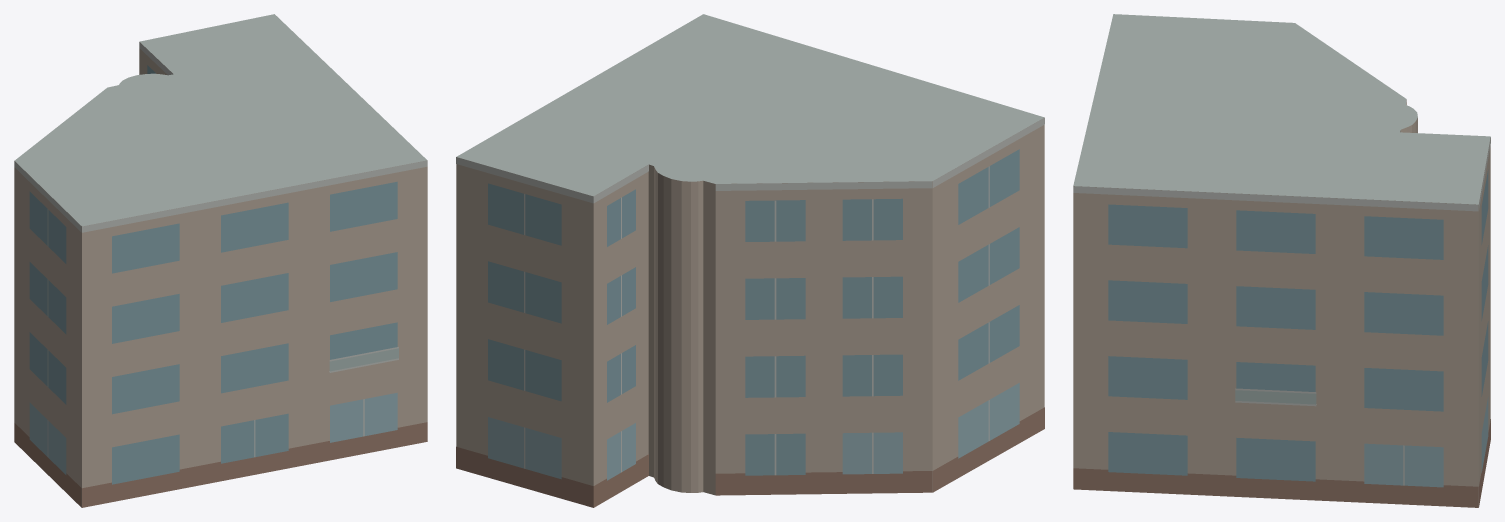
The model's file is survey-upis-32512162.glb.
The picture shows the model from 3 angles, left to right: view 1: azimuth 30°, elevation 25°; view 2: azimuth 150°, elevation 25°; view 3: azimuth 270°, elevation 25°; orthographic projection. The views are drawn at different scales.
Visible parts, largest first — view 1: survey-upis-32512162.tmp; view 2: survey-upis-32512162.tmp; view 3: survey-upis-32512162.tmp.
Boxes of the visible parts, x1,y1,x2,y2 form: survey-upis-32512162.tmp: [14, 14, 427, 507]; survey-upis-32512162.tmp: [456, 14, 1044, 507]; survey-upis-32512162.tmp: [1073, 14, 1490, 507].
Bounding box in the file's own units: 14.56 × 10.8 × 13.49.
